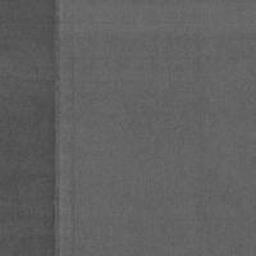Welding line: (54, 0, 60, 256)
